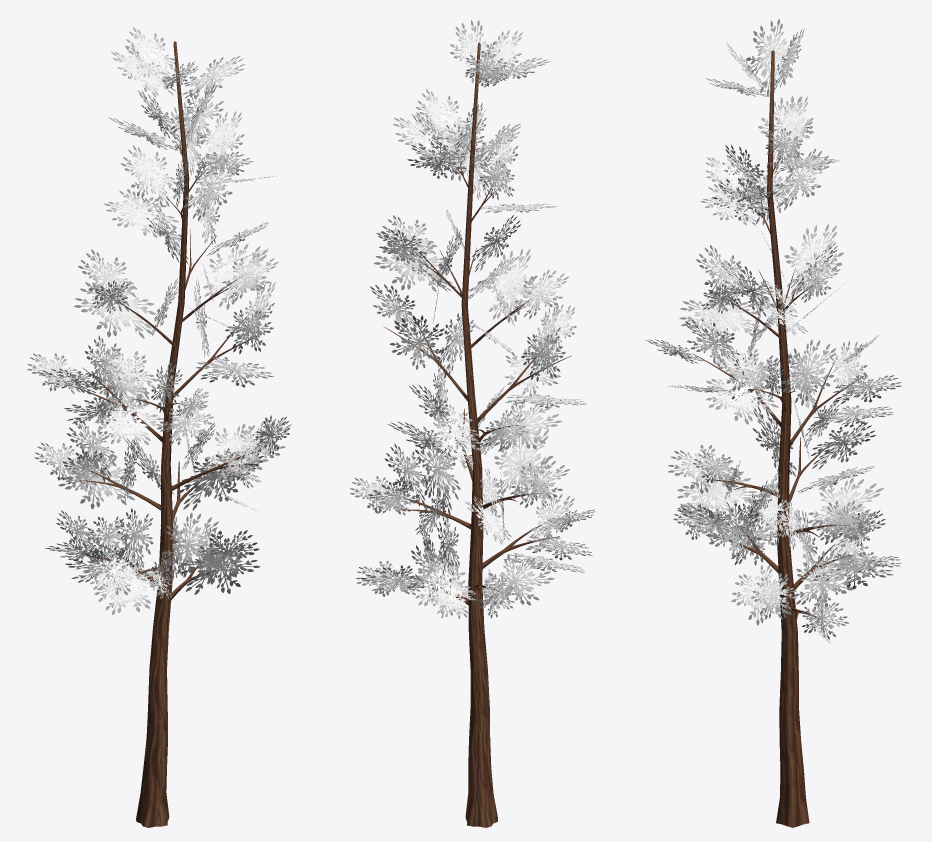
The model's file is Arbol_2.fbx.
3 renders of one model, left to right at view 1: azimuth 30°, elevation 25°; view 2: azimuth 150°, elevation 25°; view 3: azimuth 270°, elevation 25°, orthographic.
Visible parts, largest first — view 1: Tree_1, Tree_0; view 2: Tree_1, Tree_0; view 3: Tree_1, Tree_0.
Part boxes in pixels (left/top/right/bottom): Tree_1: left=27, top=27, right=291, bottom=614; Tree_0: left=71, top=41, right=264, bottom=827; Tree_1: left=350, top=20, right=595, bottom=618; Tree_0: left=383, top=42, right=571, bottom=827; Tree_1: left=645, top=19, right=901, bottom=643; Tree_0: left=692, top=50, right=864, bottom=827.
Size of the model in its own units: 355 by 1139 by 368.
2 materials, 2 textured.
